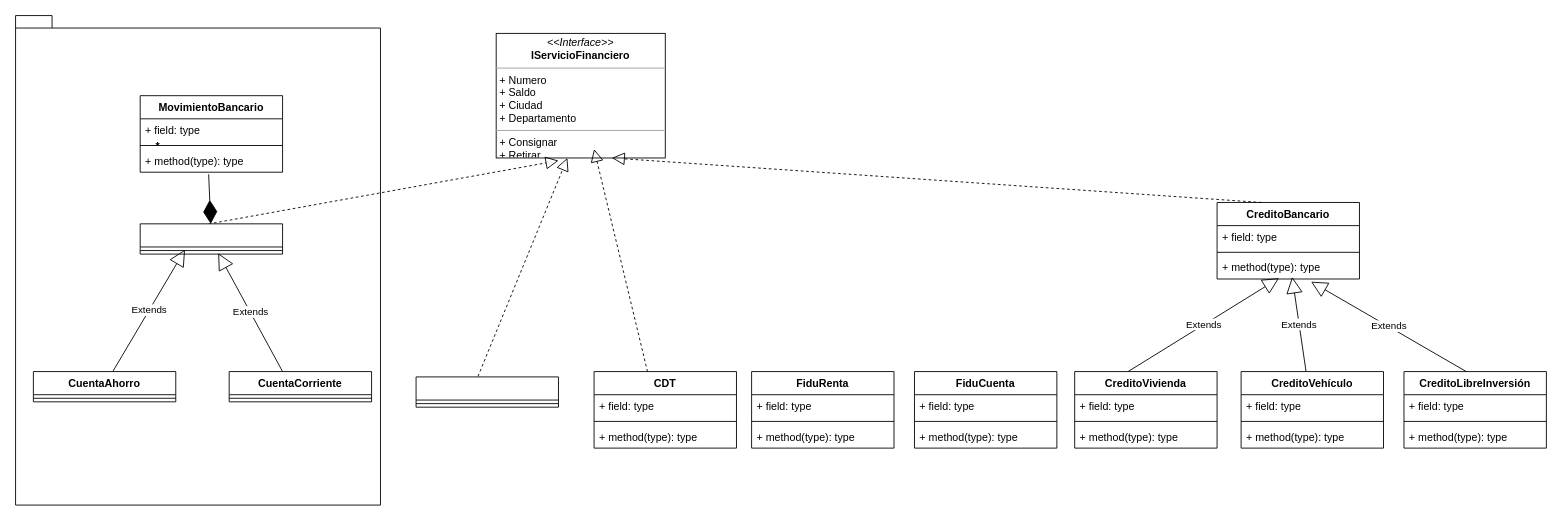
Image size: 1562x521. Some labels were removed from this diagram. The shapes that lost their labels are listed below. From the top down, each one's centre as x and y in pixels, then its label:
At (x=211, y=238): "CuentaBancario".
At (x=486, y=391): "TarjetaCredito".
